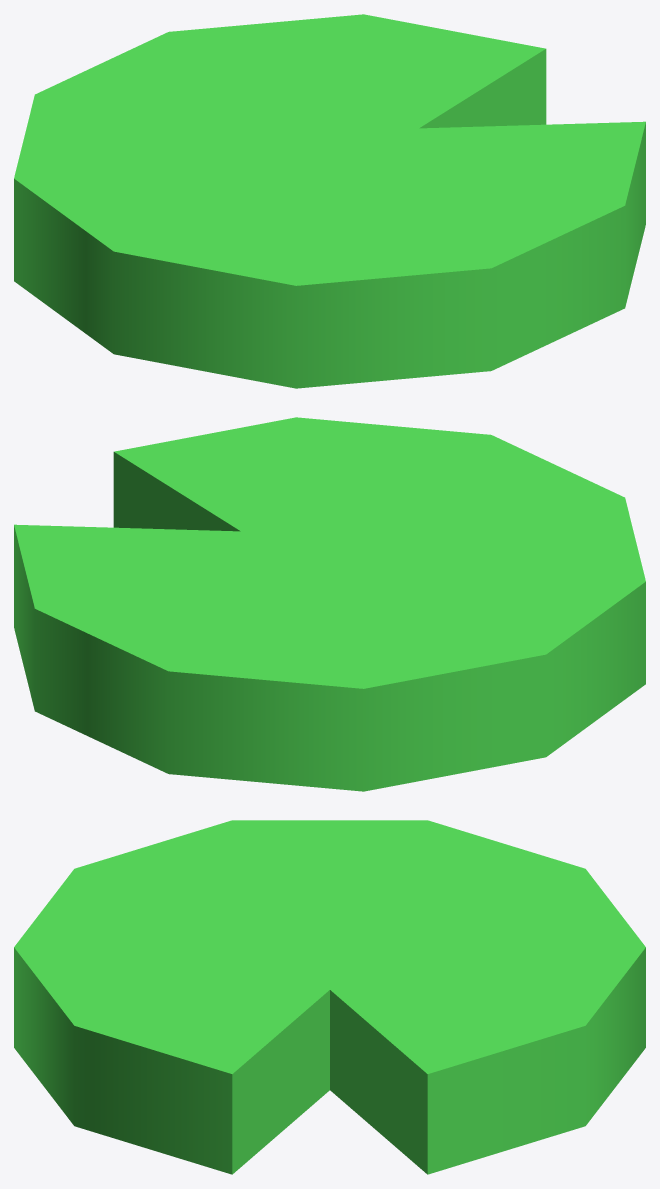
File: Lillypad.fbx
3 views of the same model, one above another, from view 1: azimuth 30°, elevation 25°; view 2: azimuth 150°, elevation 25°; view 3: azimuth 270°, elevation 25° (orthographic). The views are drawn at different scales.
Parts seen in each view (by area): view 1: Lillypad; view 2: Lillypad; view 3: Lillypad.
Boxes of the visible parts, x1,y1,x2,y2 form: Lillypad: [14, 14, 645, 388]; Lillypad: [14, 417, 645, 791]; Lillypad: [14, 820, 645, 1174].
Bounding box in the file's own units: 65.17 × 12.02 × 68.53.
